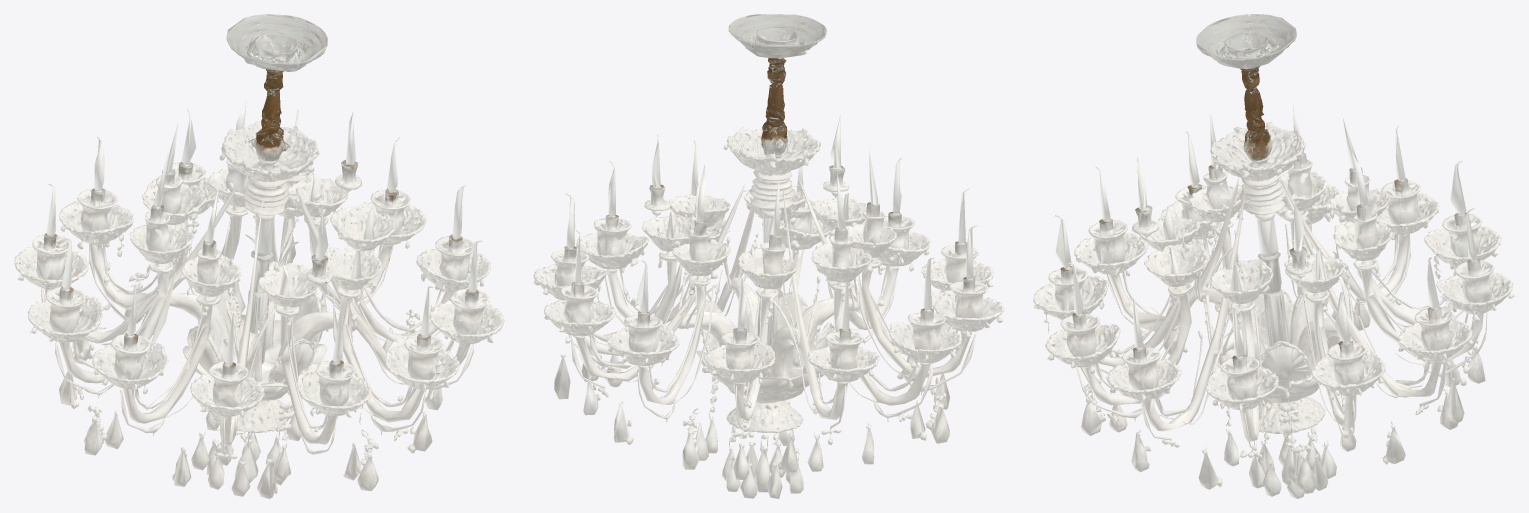
Rendered from crystal-chandelier.glb.
3 renders of one model, left to right at view 1: azimuth 30°, elevation 25°; view 2: azimuth 150°, elevation 25°; view 3: azimuth 270°, elevation 25°, orthographic. The views are drawn at different scales.
Parts seen in each view (by area): view 1: mesh_node; view 2: mesh_node; view 3: mesh_node.
Part boxes in pixels (x1,y1,x2,y2): mesh_node: (14, 14, 504, 498); mesh_node: (533, 14, 1004, 498); mesh_node: (1033, 14, 1514, 498).
Bounding box in the file's own units: 1.81 × 1.9 × 1.81.
Materials: 1 (1 with a texture image).
